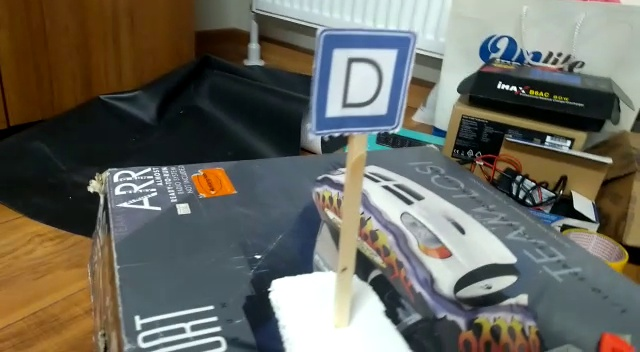durak: (310, 29, 422, 140)
